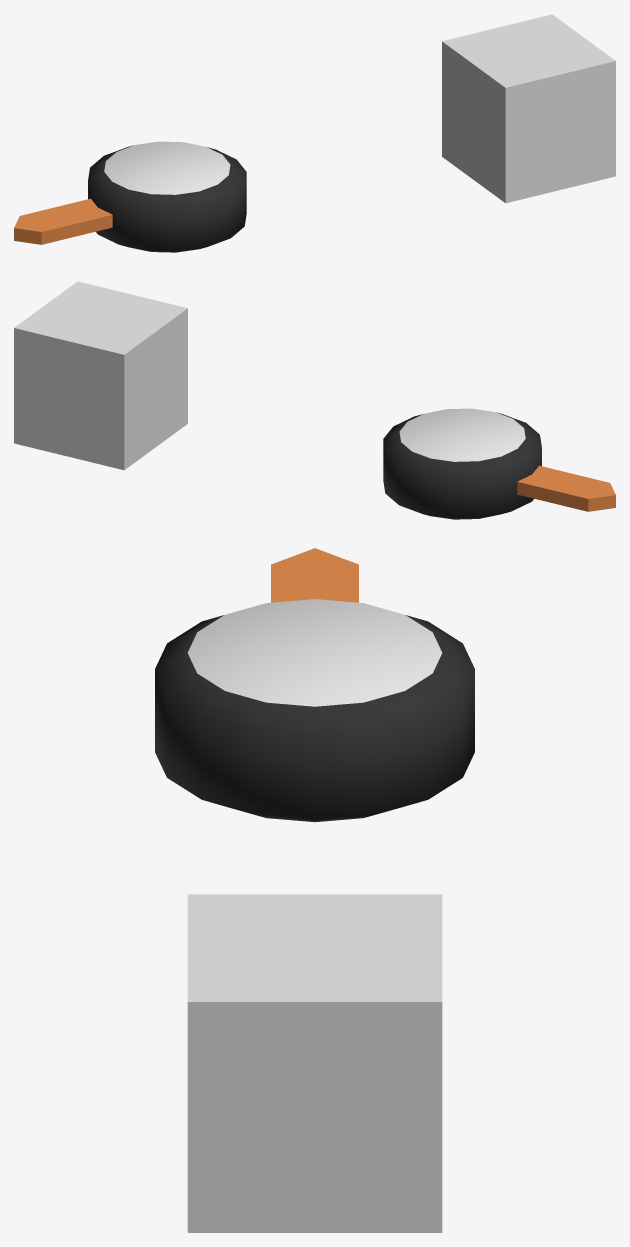
File: assets.glb
The picture shows the model from 3 angles, top to bottom: view 1: azimuth 30°, elevation 25°; view 2: azimuth 150°, elevation 25°; view 3: azimuth 270°, elevation 25°; orthographic projection. The views are drawn at different scales.
Visible parts, largest first — view 1: Cube, Player, Blade; view 2: Cube, Player, Blade; view 3: Cube, Player, Blade.
Boxes of the visible parts, x1=… form: Cube: x1=442, y1=14, x2=615, y2=203; Player: x1=88, y1=141, x2=246, y2=252; Blade: x1=14, y1=198, x2=112, y2=244; Cube: x1=14, y1=281, x2=187, y2=470; Player: x1=383, y1=408, x2=541, y2=519; Blade: x1=517, y1=465, x2=615, y2=511; Cube: x1=187, y1=894, x2=442, y2=1232; Player: x1=155, y1=599, x2=474, y2=822; Blade: x1=271, y1=548, x2=358, y2=602.
Bounding box in the file's own units: 10.33 × 2 × 2.51.
